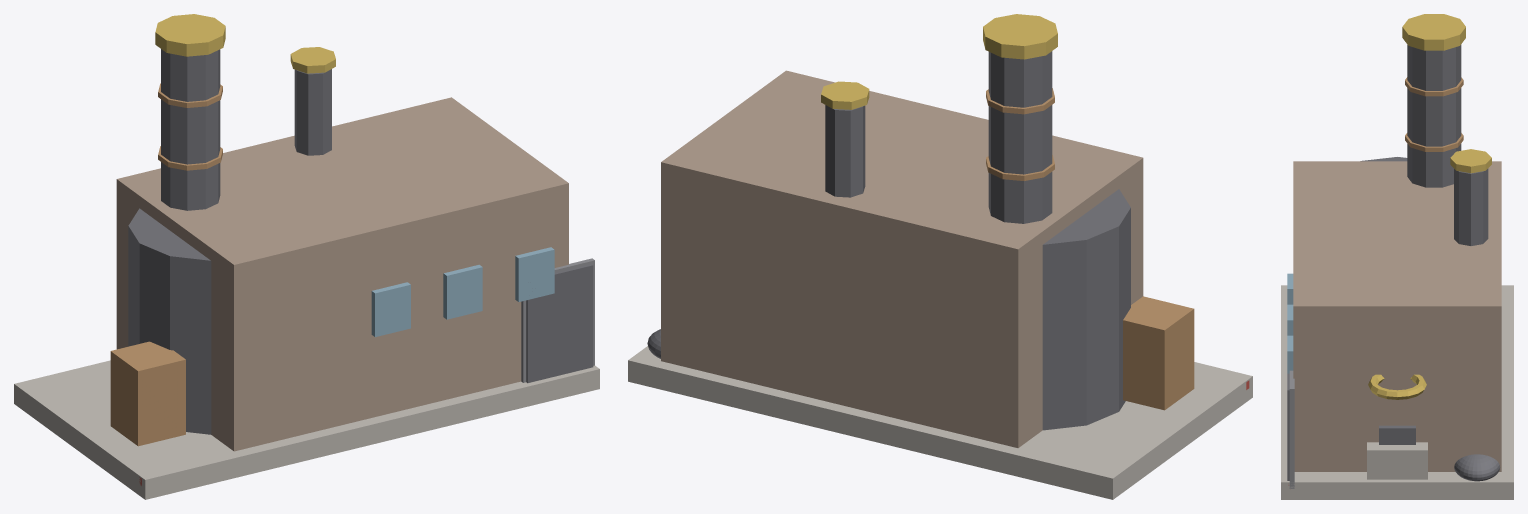
File: foundry.glb
3 views of the same model, side by side, from view 1: azimuth 30°, elevation 25°; view 2: azimuth 150°, elevation 25°; view 3: azimuth 270°, elevation 25° (orthographic). The views are drawn at different scales.
Parts seen in each view (by area): view 1: Foundry; view 2: Foundry; view 3: Foundry.
Boxes of the visible parts, x1,y1,x2,y2 form: Foundry: [14, 14, 599, 499]; Foundry: [628, 14, 1252, 499]; Foundry: [1281, 14, 1513, 499].
Bounding box in the file's own units: 3.96 × 3 × 1.9.
